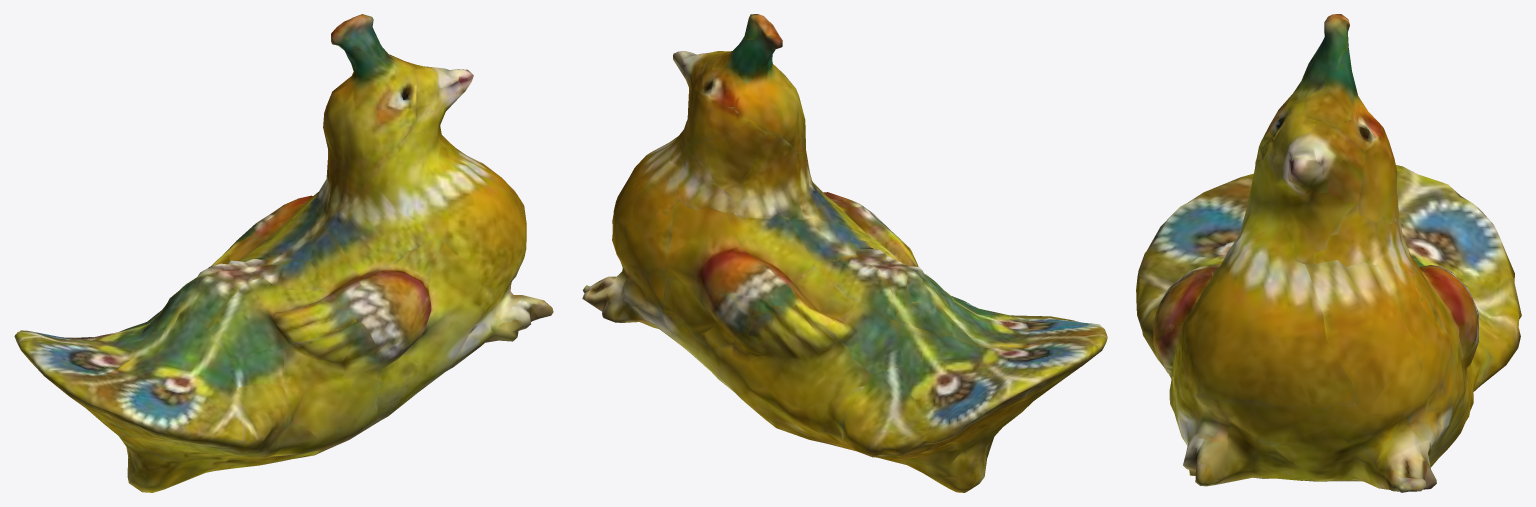
Rendered from hall.glb.
3 renders of one model, left to right at view 1: azimuth 30°, elevation 25°; view 2: azimuth 150°, elevation 25°; view 3: azimuth 270°, elevation 25°, orthographic. The views are drawn at different scales.
Bounding box in the file's own units: 0.649 × 0.5555 × 0.3526.
1 material, 1 textured.
